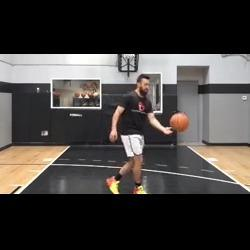BasketBall: (168, 111, 189, 132)
